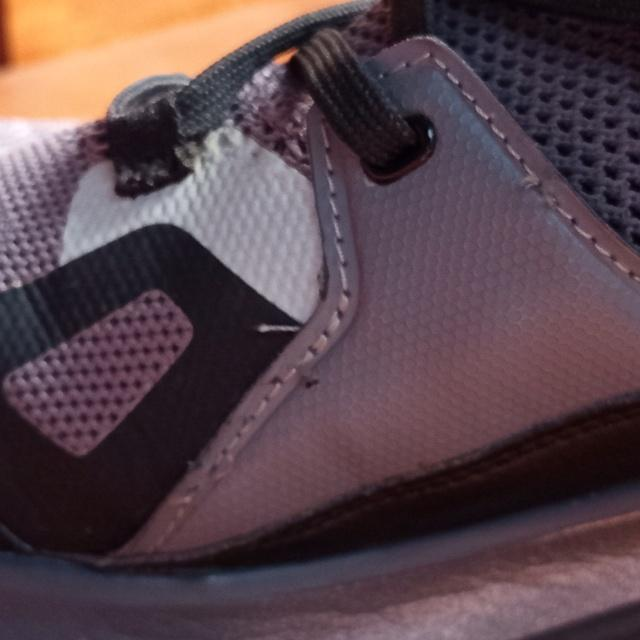broken: (172, 464, 232, 517), (522, 166, 564, 215)
